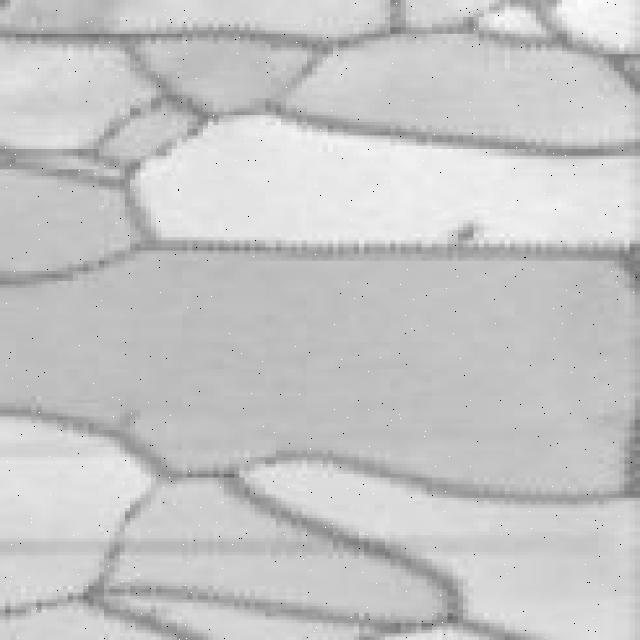good_void: (451, 223, 488, 246)
